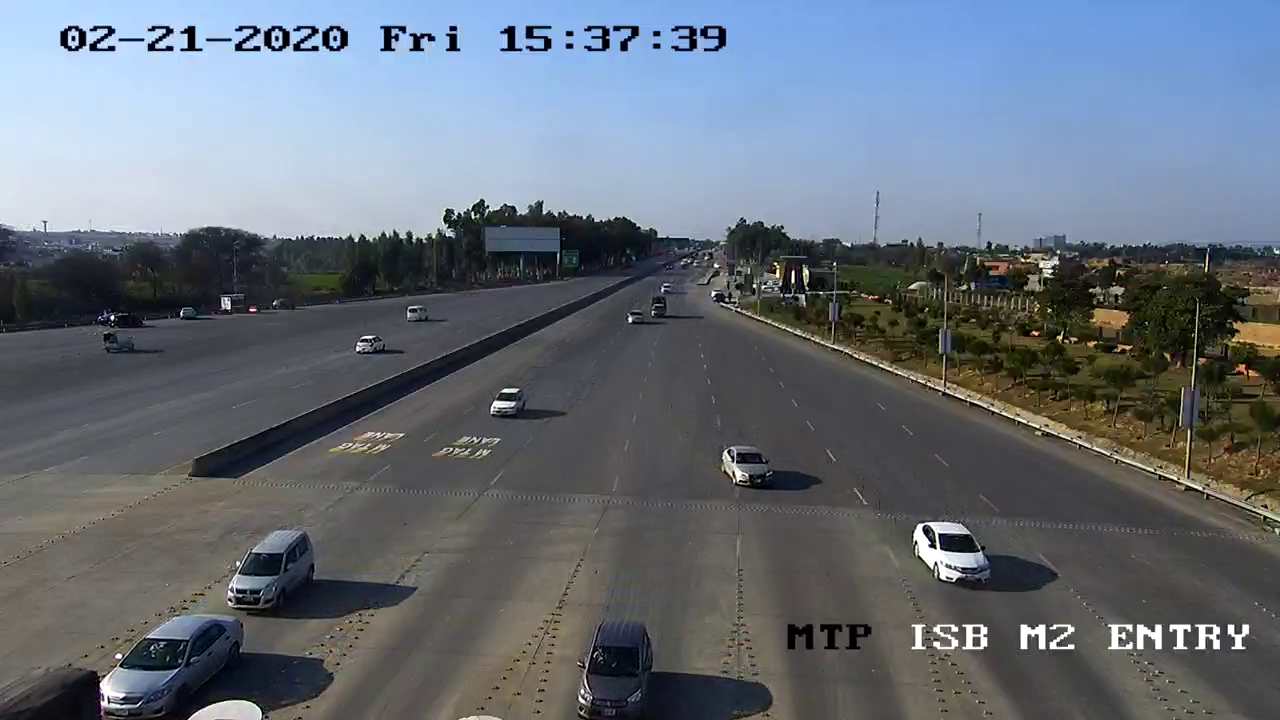f1: (214, 523, 322, 617), (571, 608, 659, 718), (900, 509, 1005, 595), (712, 437, 782, 500), (477, 380, 528, 431)
